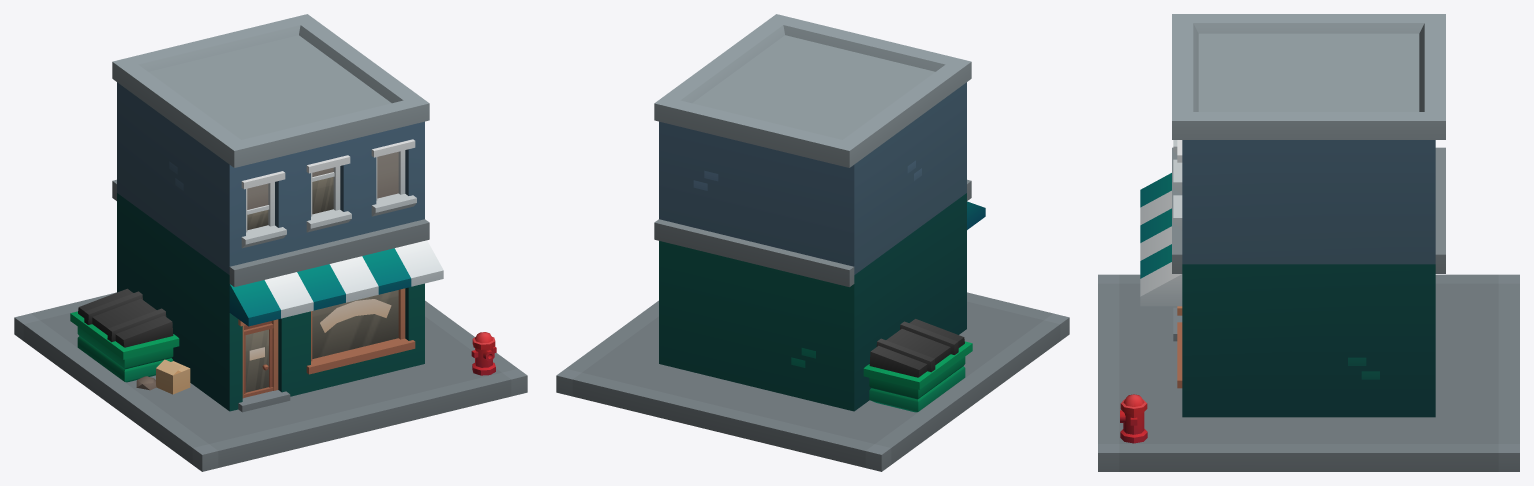
Rendered from building-A.glb.
The picture shows the model from 3 angles, left to right: view 1: azimuth 30°, elevation 25°; view 2: azimuth 150°, elevation 25°; view 3: azimuth 270°, elevation 25°; orthographic projection. The views are drawn at different scales.
Visible parts, largest first — view 1: building_A; view 2: building_A; view 3: building_A.
Boxes of the visible parts, x1=… form: building_A: x1=14, y1=14, x2=527, y2=471; building_A: x1=556, y1=14, x2=1069, y2=471; building_A: x1=1098, y1=14, x2=1519, y2=471.
Bounding box in the file's own units: 2 × 1.65 × 2.
Materials: 1 (1 with a texture image).
